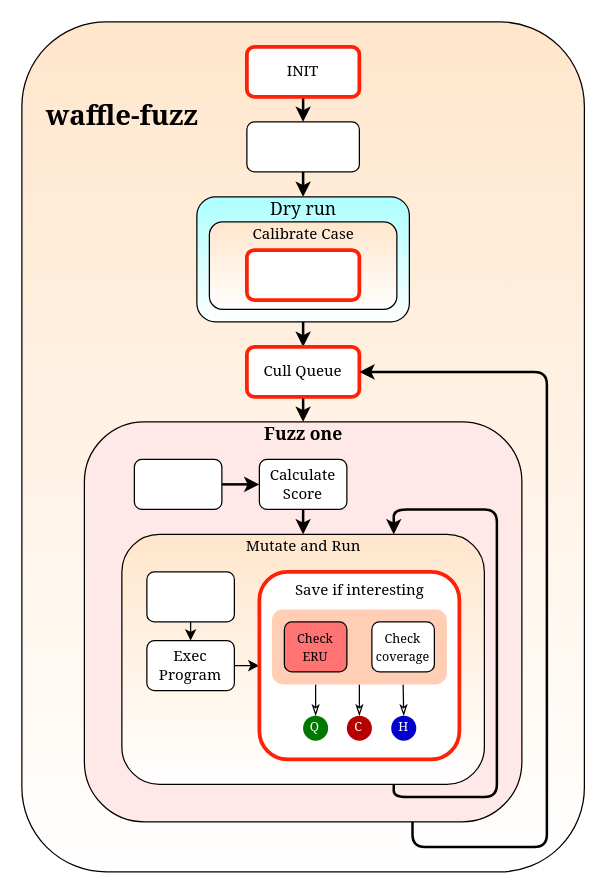
The diagram is 606 pixels wide and 894 high, and some of its shapes have lost their labels. The centre of each missing label's shape, as x and y in pixels:
Apply Mutation: the point at 190,596
Trim Case: the point at 177,483
Update bitmap score: the point at 302,274
Upload seeds: the point at 302,146
